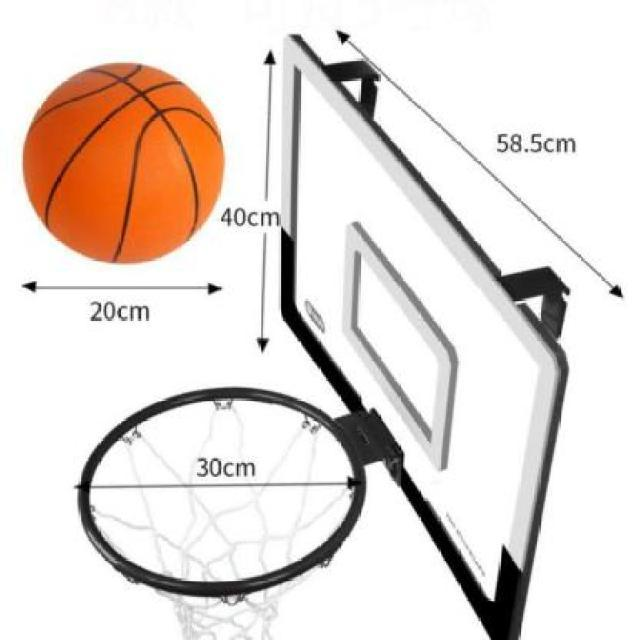basketball: (22, 61, 226, 266)
